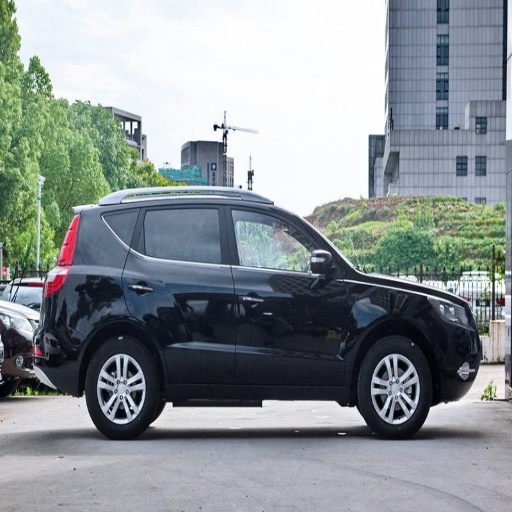back_right_door: (123, 198, 235, 383)
front_right_door: (231, 199, 348, 382)
